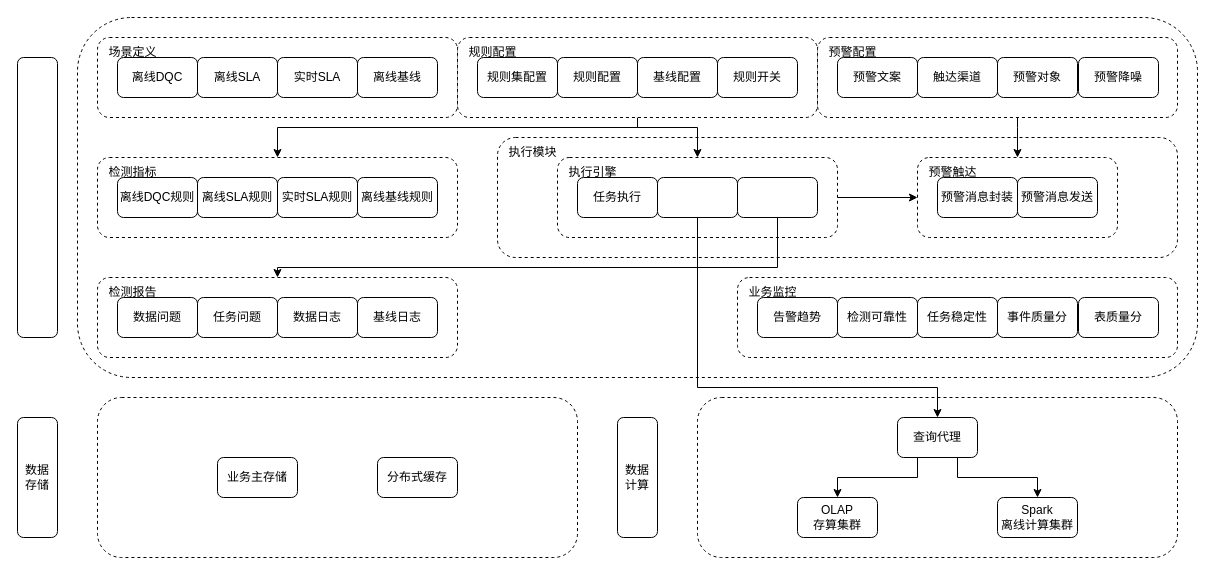
This 1215x575 diagram has some shape labels left out. Here are the shapes that lost their labels. From the top down, the centre of each, then its label:
At point 37,197: "产品 应用".
At point 697,197: "数据采集".
At point 777,197: "执行日志".
